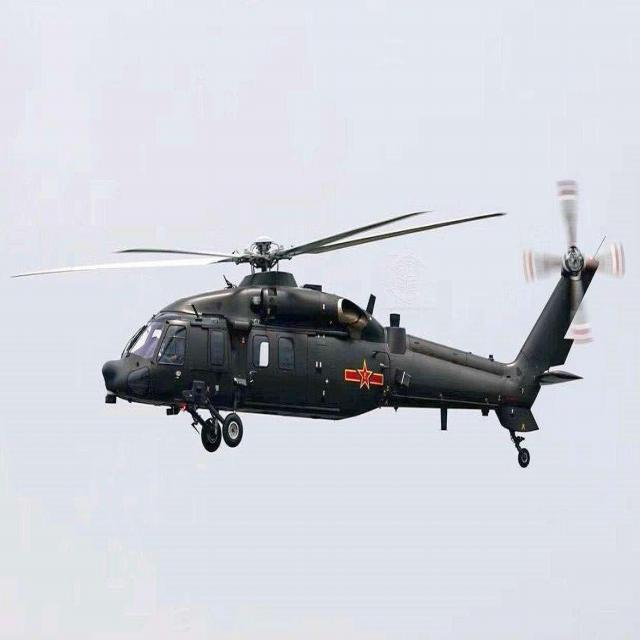MIL_HELO: (10, 148, 613, 485)
